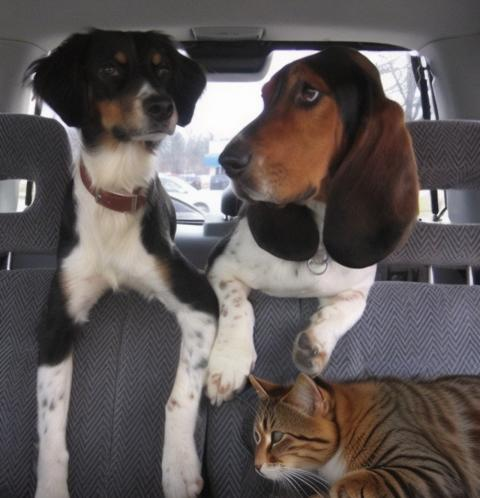cat: (241, 375, 480, 498)
dog: (25, 26, 216, 498), (199, 42, 422, 404)
